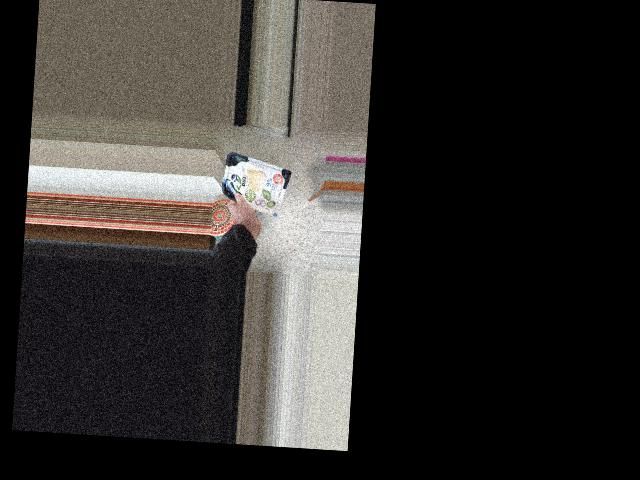cheese: (219, 151, 288, 217)
